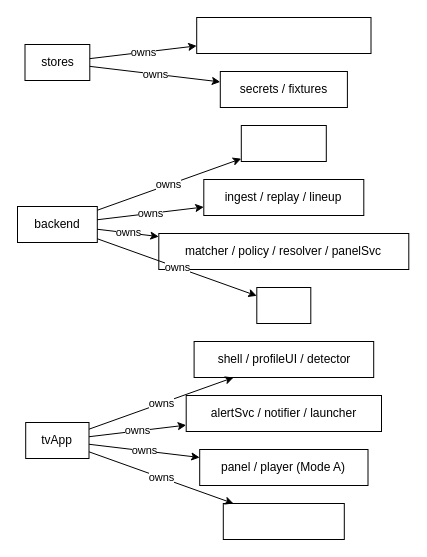
The diagram is 427 pixels wide and 557 high, and some of its shapes have lost their labels. Here are the shapes that lost their labels. From the top down, the centre of each, then its label:
point (283, 35): profileStore / eventStore
point (283, 143): auth / api
point (283, 305): iac
point (283, 521): build / manifest
